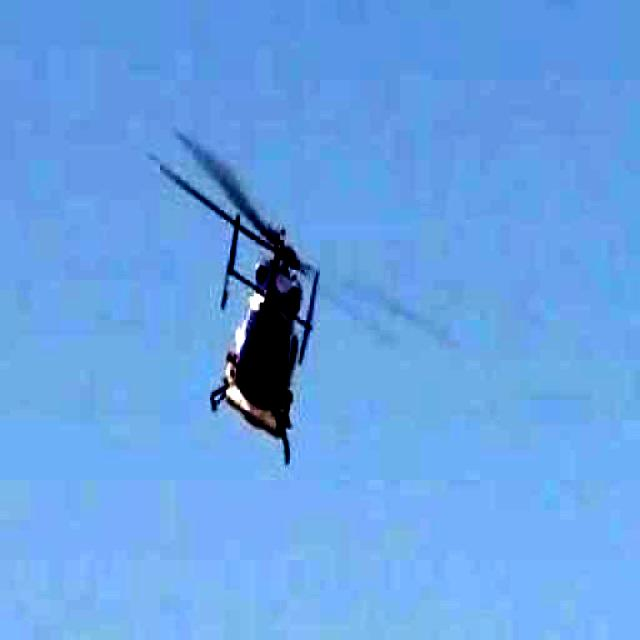drone: (134, 104, 484, 500)
